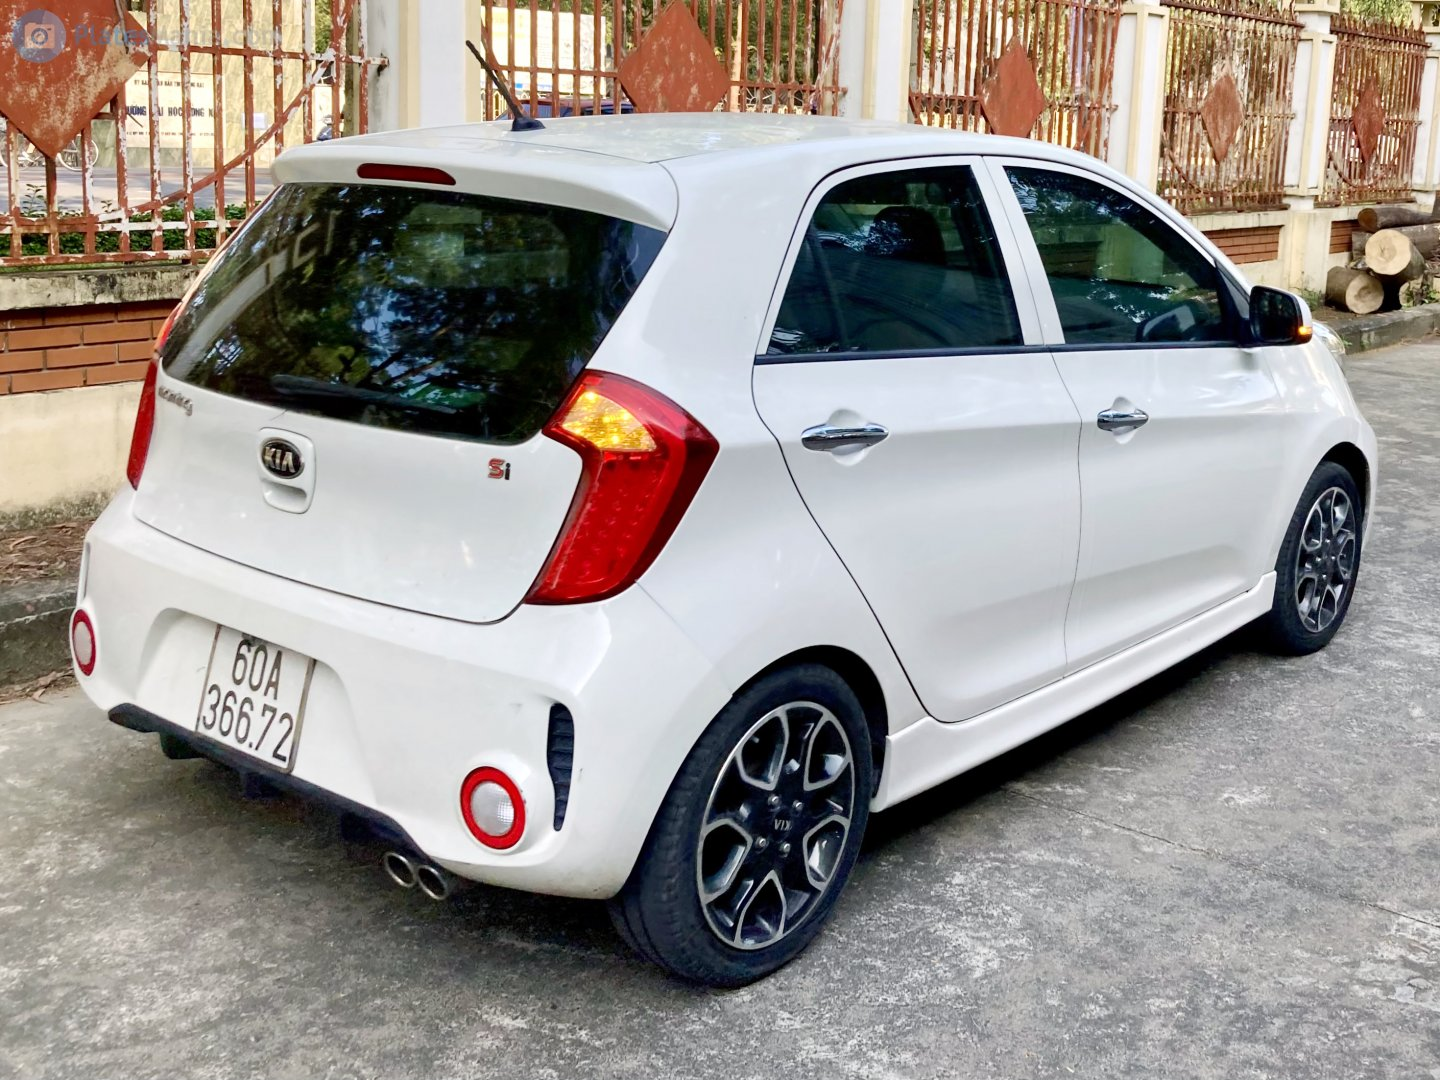bien_so: (195, 623, 314, 772)
